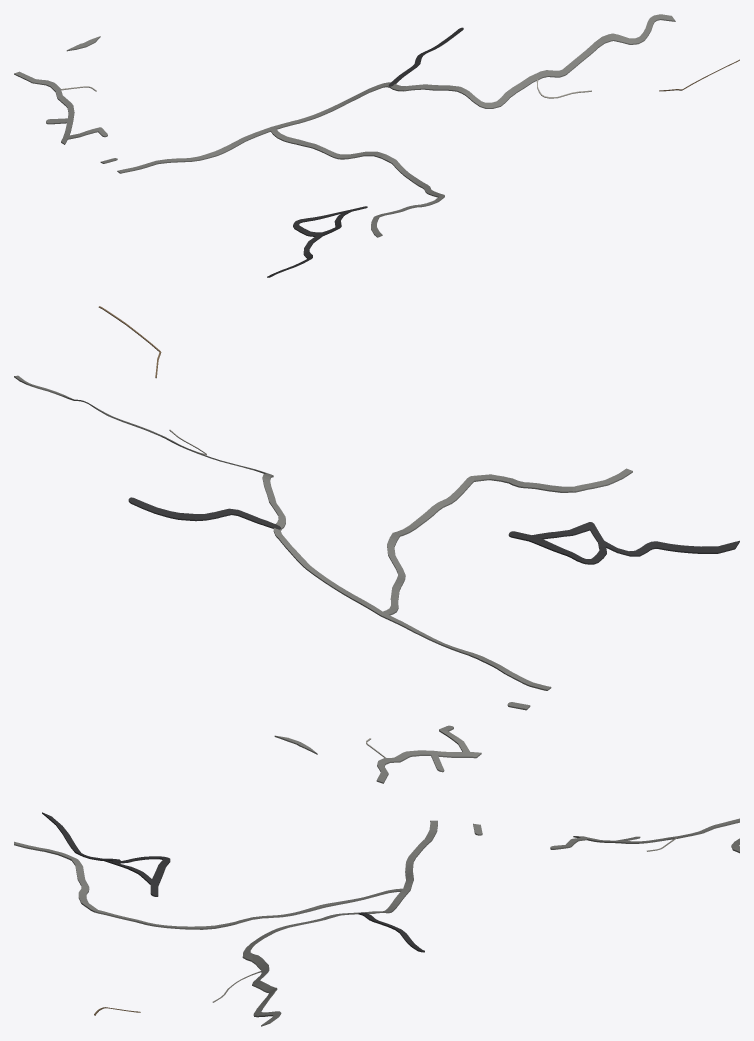
The model's file is 16-54725-29734.dbbfd4c4.glb.
The picture shows the model from 3 angles, top to bottom: view 1: azimuth 30°, elevation 25°; view 2: azimuth 150°, elevation 25°; view 3: azimuth 270°, elevation 25°; orthographic projection. The views are drawn at different scales.
Size of the model in its own units: 587 by 117 by 583.
